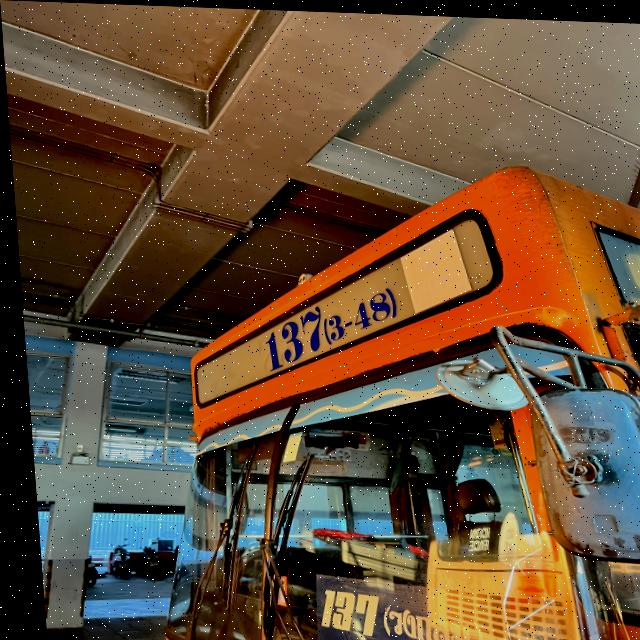BMTA-bus: (129, 152, 640, 640)
Bus-Line-Number: (248, 262, 407, 378)
Destination-Sign-Normal: (301, 572, 483, 640)
